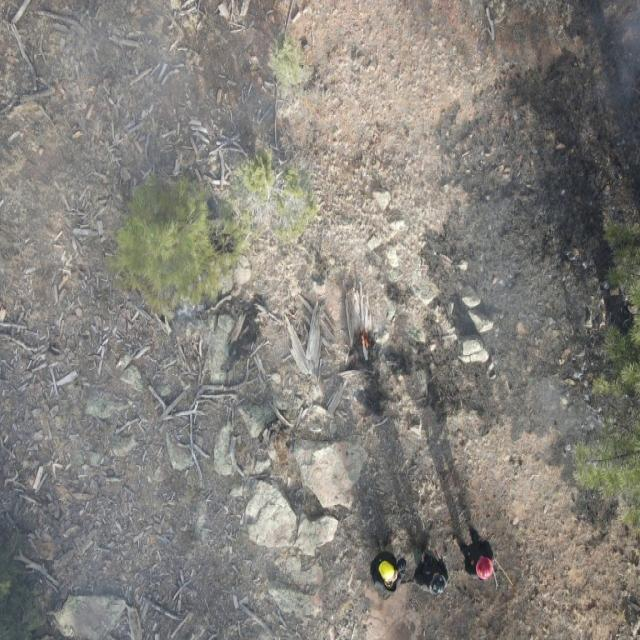fire: (358, 331, 374, 351)
smoke: (0, 1, 300, 640), (300, 163, 609, 489), (562, 0, 640, 110)
